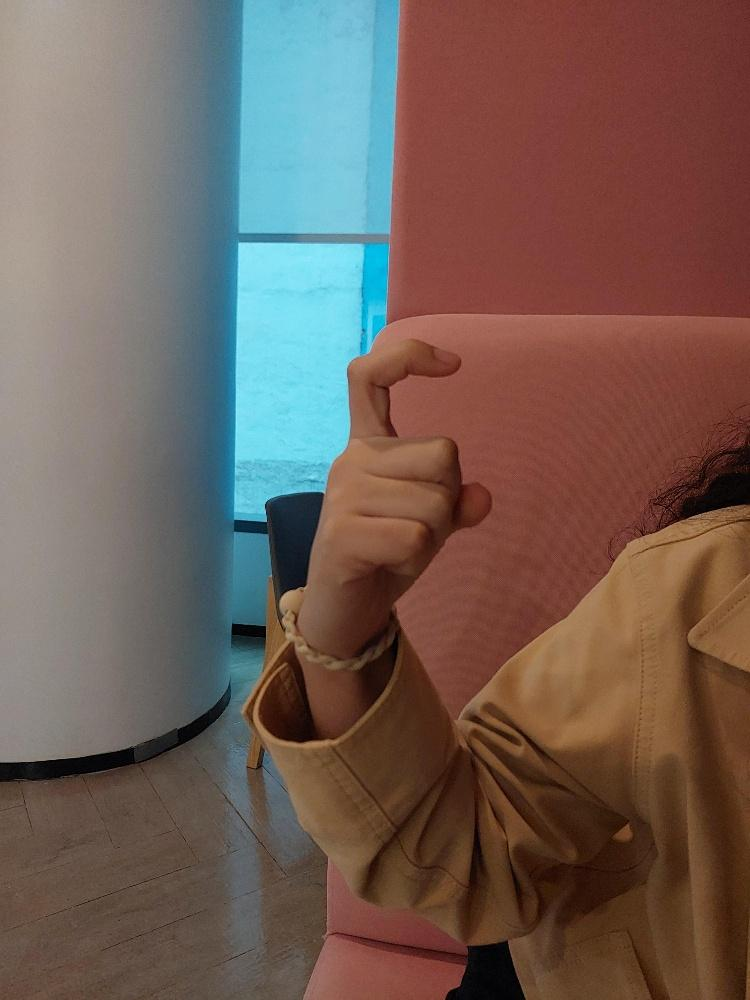x: (292, 327, 503, 659)
